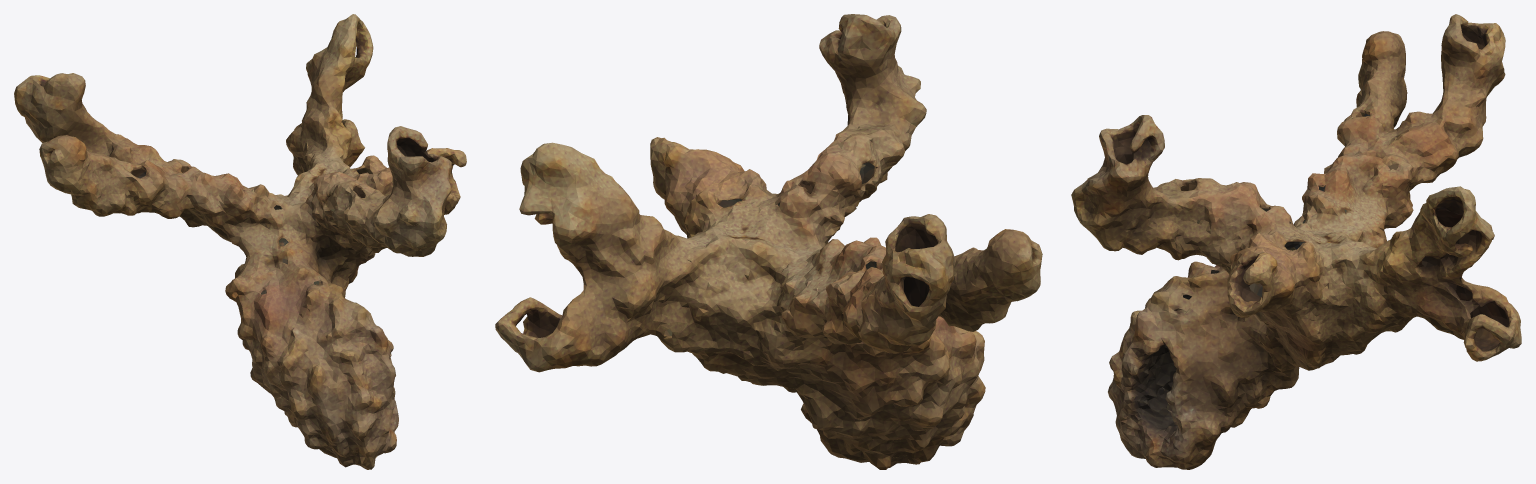
3 renders of one model, left to right at view 1: azimuth 30°, elevation 25°; view 2: azimuth 150°, elevation 25°; view 3: azimuth 270°, elevation 25°, orthographic. The views are drawn at different scales.
Visible parts, largest first — view 1: world; view 2: world; view 3: world.
Part boxes in pixels (<box>): world: <box>14,14,466,469</box>; world: <box>495,14,1042,469</box>; world: <box>1071,14,1521,469</box>.
Bounding box in the file's own units: 0.9985 × 0.8711 × 0.991.
Materials: 1 (1 with a texture image).
